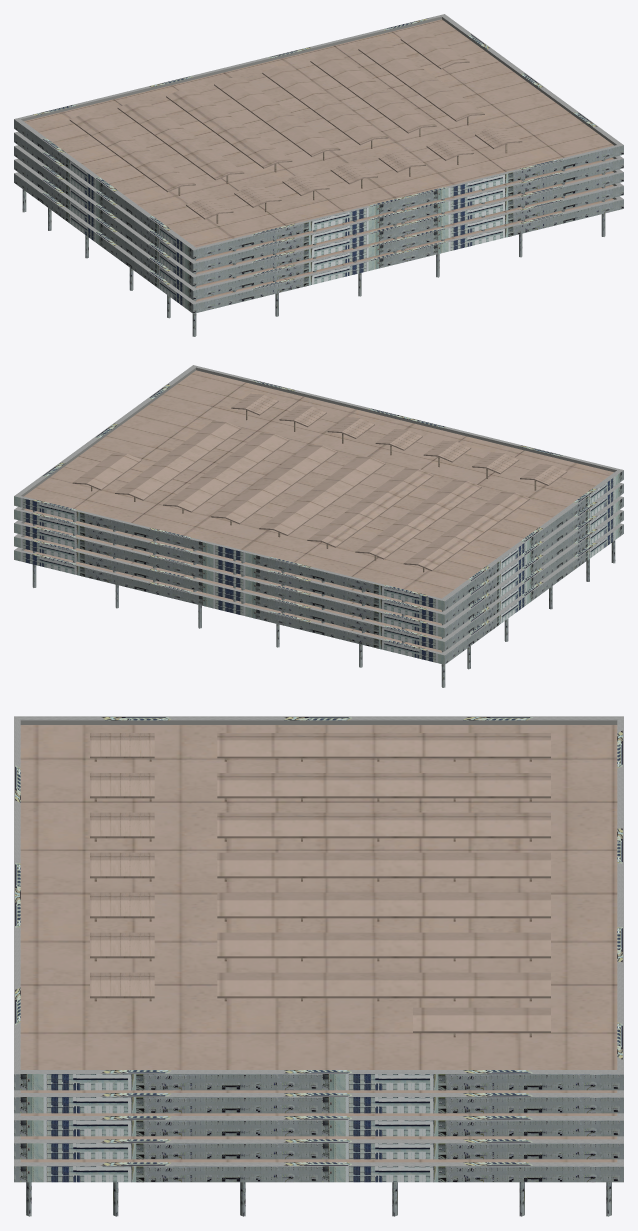
Rendered from Garage5.exact.glb.
3 views of the same model, one above another, from view 1: azimuth 30°, elevation 25°; view 2: azimuth 150°, elevation 25°; view 3: azimuth 270°, elevation 25° (orthographic). The views are drawn at different scales.
Visible parts, largest first — view 1: Garage5; view 2: Garage5; view 3: Garage5.
Part boxes in pixels (bbox=[...]): Garage5: bbox=[14, 14, 623, 336]; Garage5: bbox=[14, 365, 623, 687]; Garage5: bbox=[14, 716, 623, 1216].
Size of the model in its own units: 166 by 37.01 by 120.
Materials: 1 (1 with a texture image).
